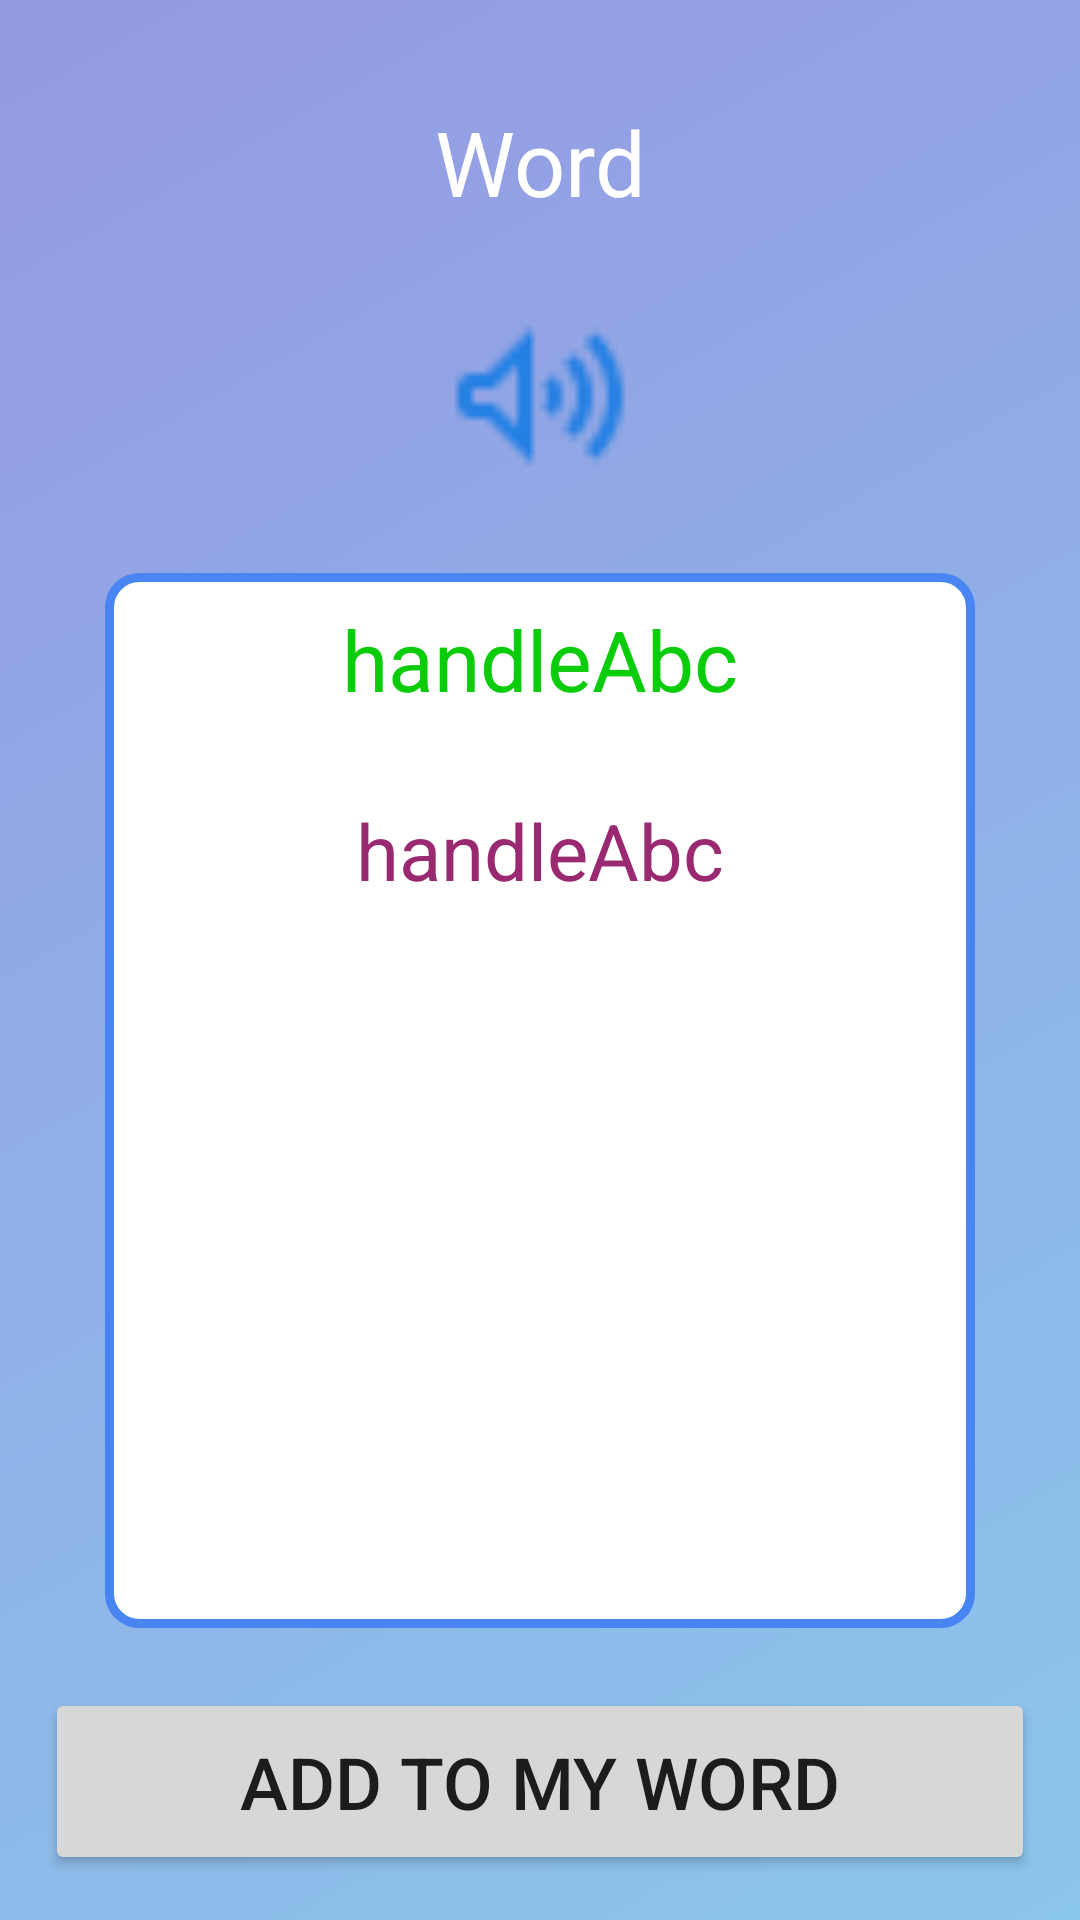

Icon click points for this 1080*1920 phone screenshot, format (x,y):
voi: (540,396)
